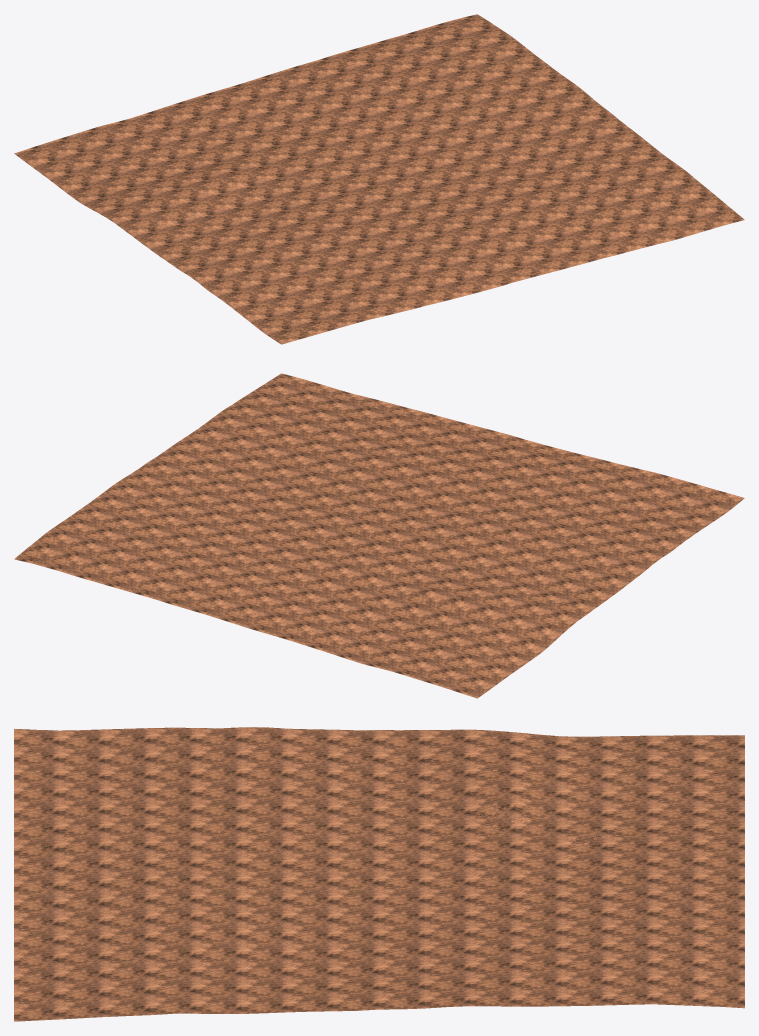
Rendered from terrain_04_15.dae.
The picture shows the model from 3 angles, top to bottom: view 1: azimuth 30°, elevation 25°; view 2: azimuth 150°, elevation 25°; view 3: azimuth 270°, elevation 25°; orthographic projection. The views are drawn at different scales.
Visible parts, largest first — view 1: terrain_04_15-node; view 2: terrain_04_15-node; view 3: terrain_04_15-node.
Boxes of the visible parts, x1,y1,x2,y2 form: terrain_04_15-node: (14, 14, 744, 344); terrain_04_15-node: (14, 373, 744, 698); terrain_04_15-node: (14, 727, 744, 1021).
Bounding box in the file's own units: 128 × 128 × 7.98.
Materials: 1 (1 with a texture image).
